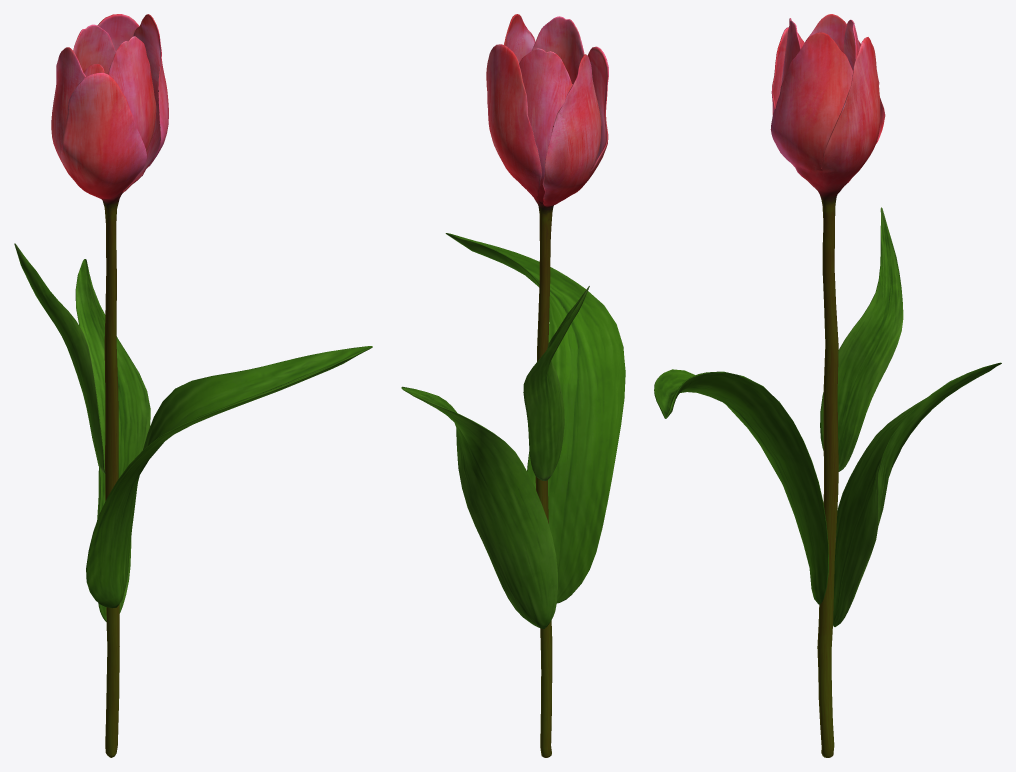
The model's file is tulip.gltf.
The picture shows the model from 3 angles, left to right: view 1: azimuth 30°, elevation 25°; view 2: azimuth 150°, elevation 25°; view 3: azimuth 270°, elevation 25°; orthographic projection.
Visible parts, largest first — view 1: tulip_with_stem1; view 2: tulip_with_stem1; view 3: tulip_with_stem1.
Part boxes in pixels (x1,y1,x2,y2): tulip_with_stem1: [14, 14, 372, 757]; tulip_with_stem1: [401, 14, 625, 757]; tulip_with_stem1: [654, 14, 1001, 757].
Bounding box in the file's own units: 0.0154 × 0.0431 × 0.0183.
Materials: 1 (1 with a texture image).
